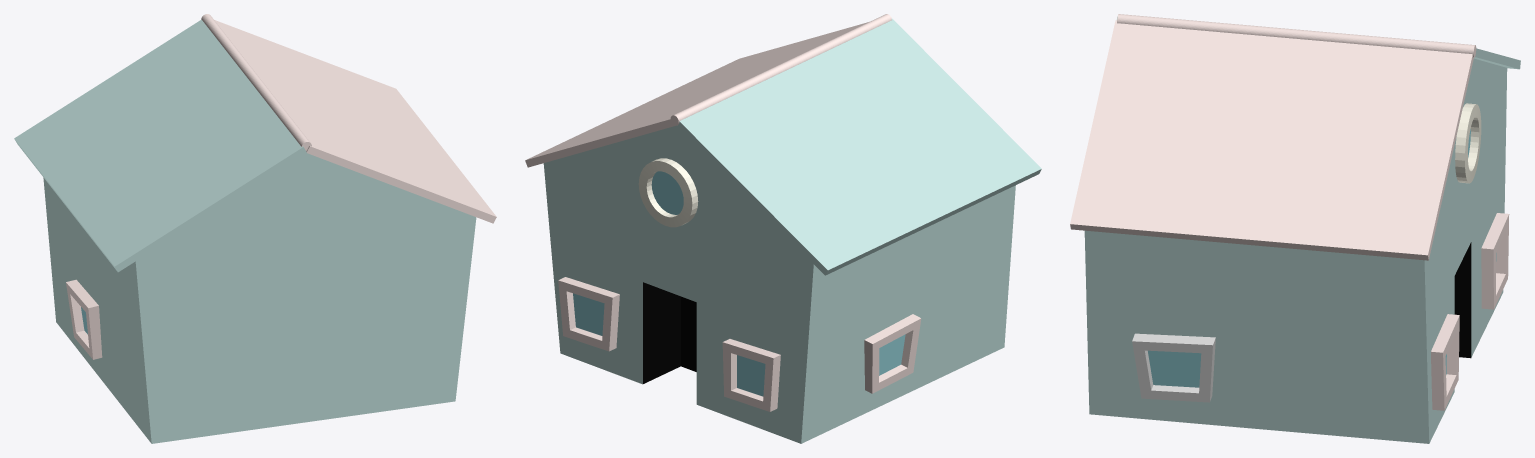
The model's file is casa_azul.fbx.
The picture shows the model from 3 angles, left to right: view 1: azimuth 30°, elevation 25°; view 2: azimuth 150°, elevation 25°; view 3: azimuth 270°, elevation 25°; orthographic projection. The views are drawn at different scales.
Parts seen in each view (by area): view 1: Cube.018; view 2: Cube.018; view 3: Cube.018.
Boxes of the visible parts, bbox=[...] form: Cube.018: bbox=[14, 14, 496, 443]; Cube.018: bbox=[525, 14, 1041, 443]; Cube.018: bbox=[1070, 14, 1520, 443].
Bounding box in the file's own units: 1438 × 980 × 1237.
